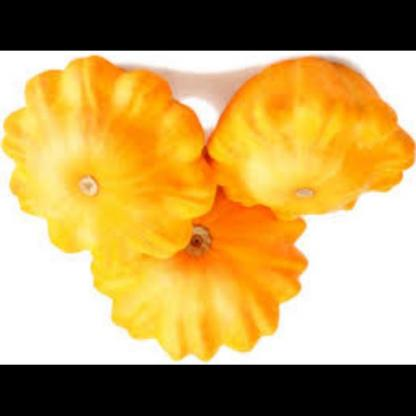squash-patisson: (0, 52, 218, 263), (81, 204, 313, 363), (209, 57, 415, 232)
